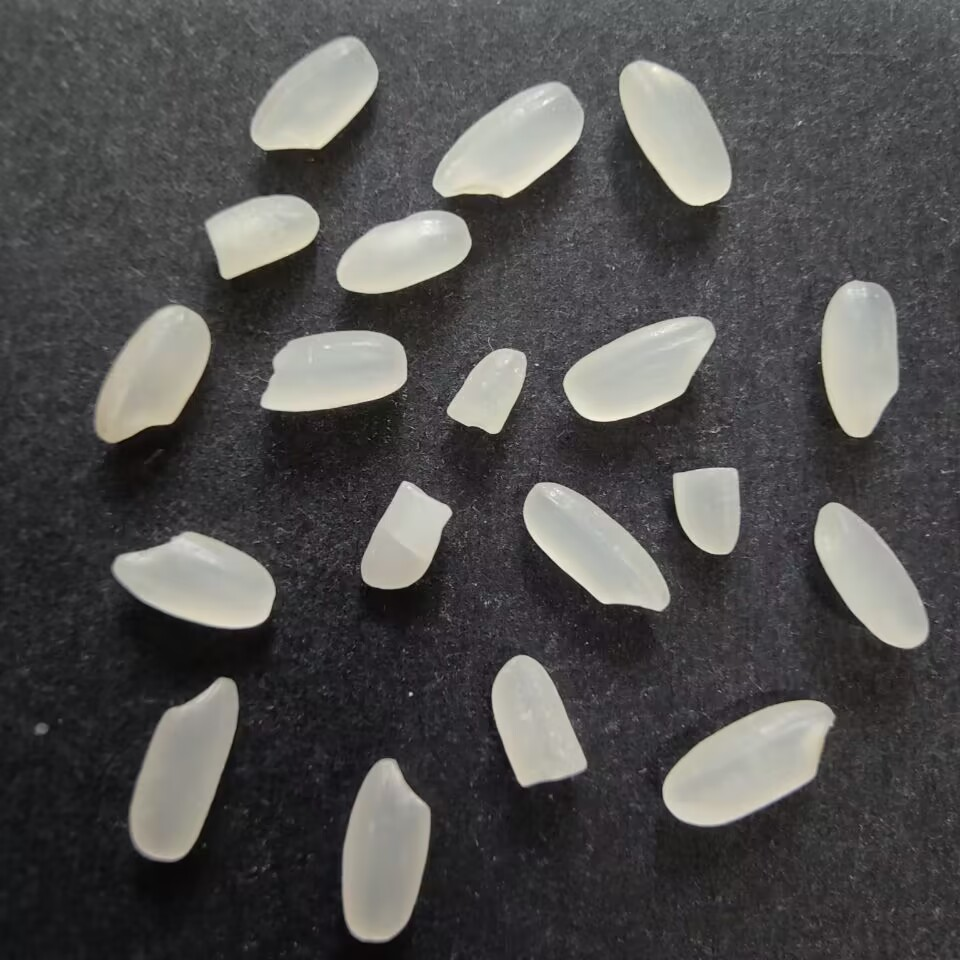broken: (487, 651, 588, 788), (202, 191, 322, 284), (359, 476, 453, 594), (443, 343, 529, 437), (668, 465, 747, 558)
rice: (660, 696, 838, 829), (126, 675, 243, 867), (520, 479, 673, 620), (430, 76, 590, 201), (812, 501, 931, 656), (340, 753, 435, 945), (560, 310, 717, 426), (92, 300, 213, 450), (108, 526, 280, 631), (617, 58, 735, 206), (246, 32, 383, 156), (256, 325, 413, 419), (816, 276, 905, 439), (336, 208, 475, 299)
